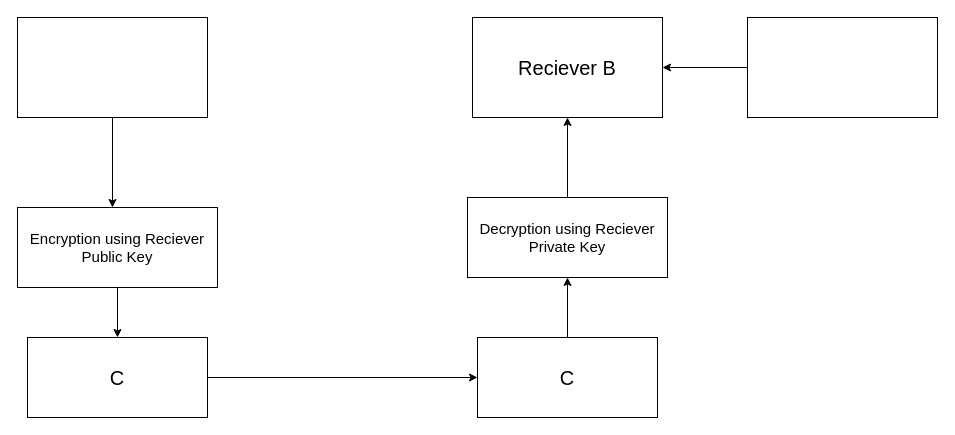
This 955x435 diagram has some shape labels left out. The centre of each missing label's shape, as x and y in pixels:
"Fixed Address" goes at pixel 842 67.
"User A" goes at pixel 112 67.
